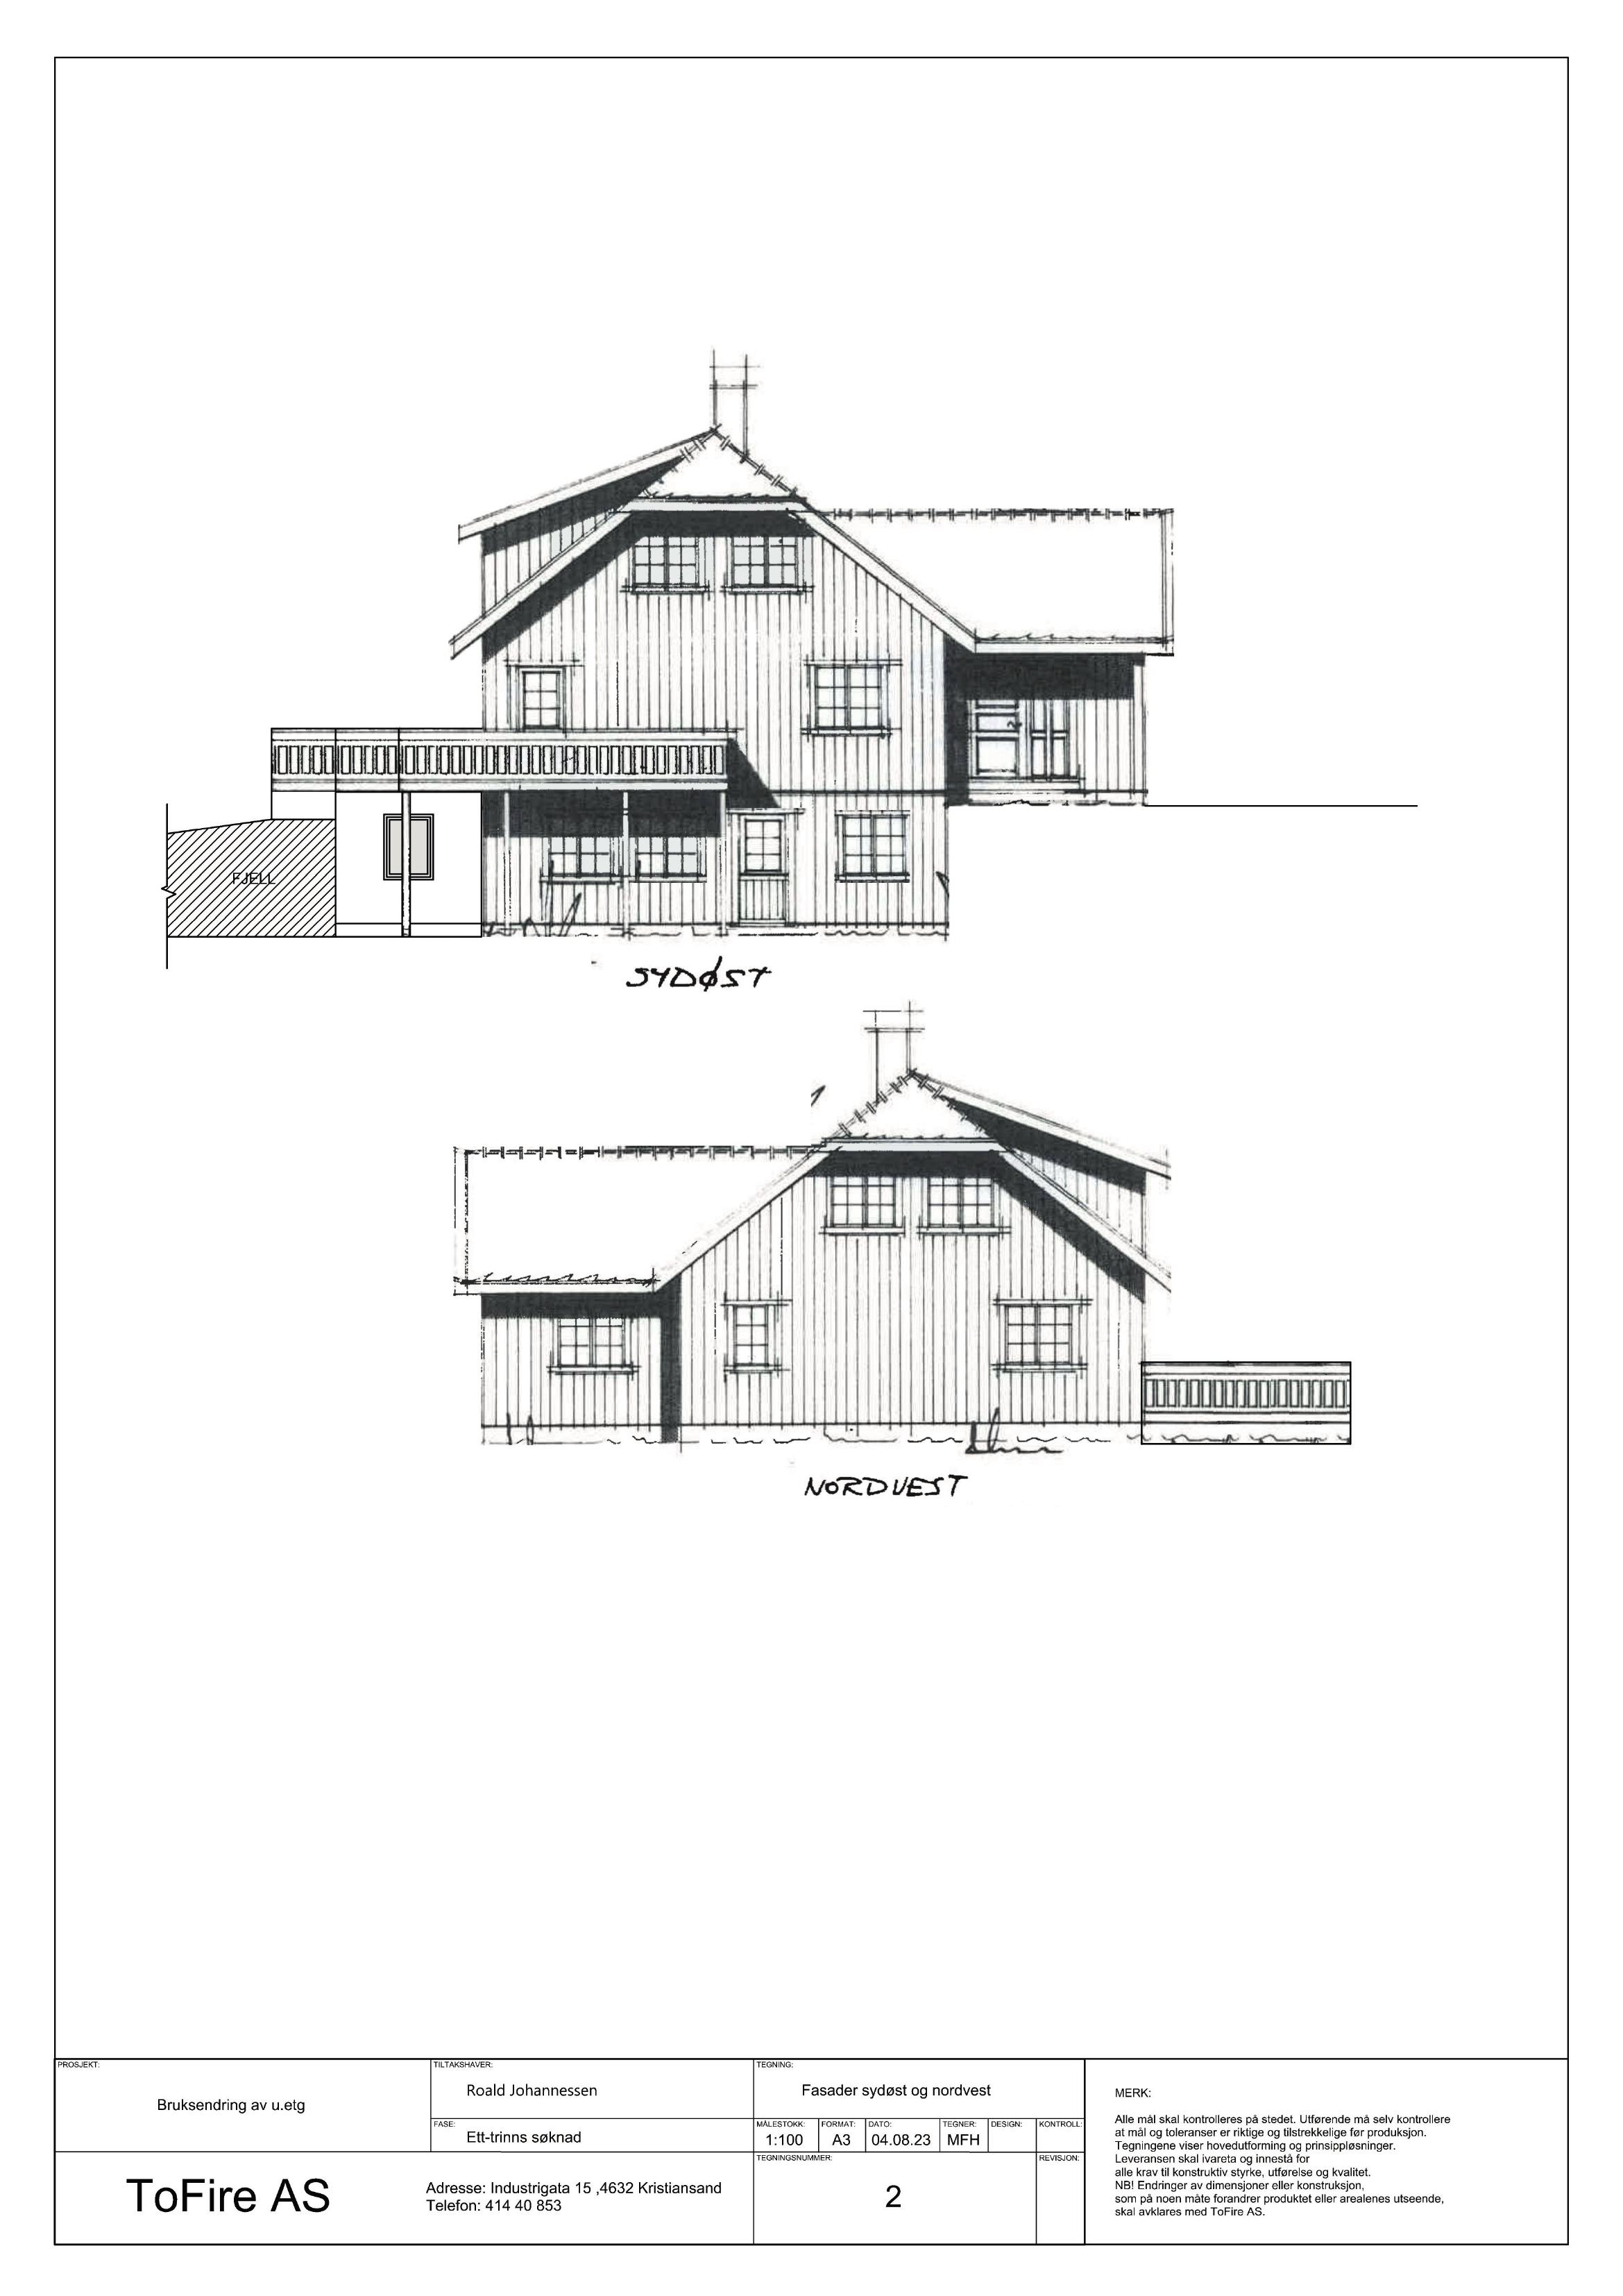fasade: (155, 360, 1193, 952), (454, 999, 1363, 1451)
